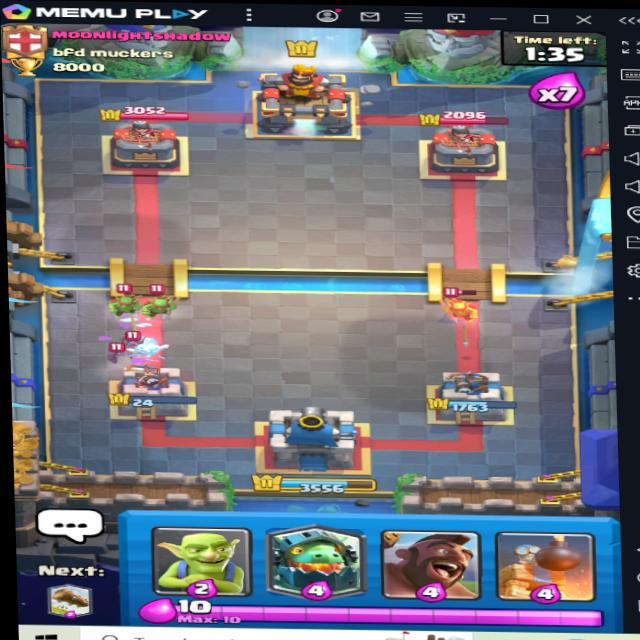bats: (94, 341, 130, 361), (117, 332, 144, 353)
spear-goblin: (443, 291, 481, 321), (107, 282, 143, 312), (139, 295, 177, 316)
